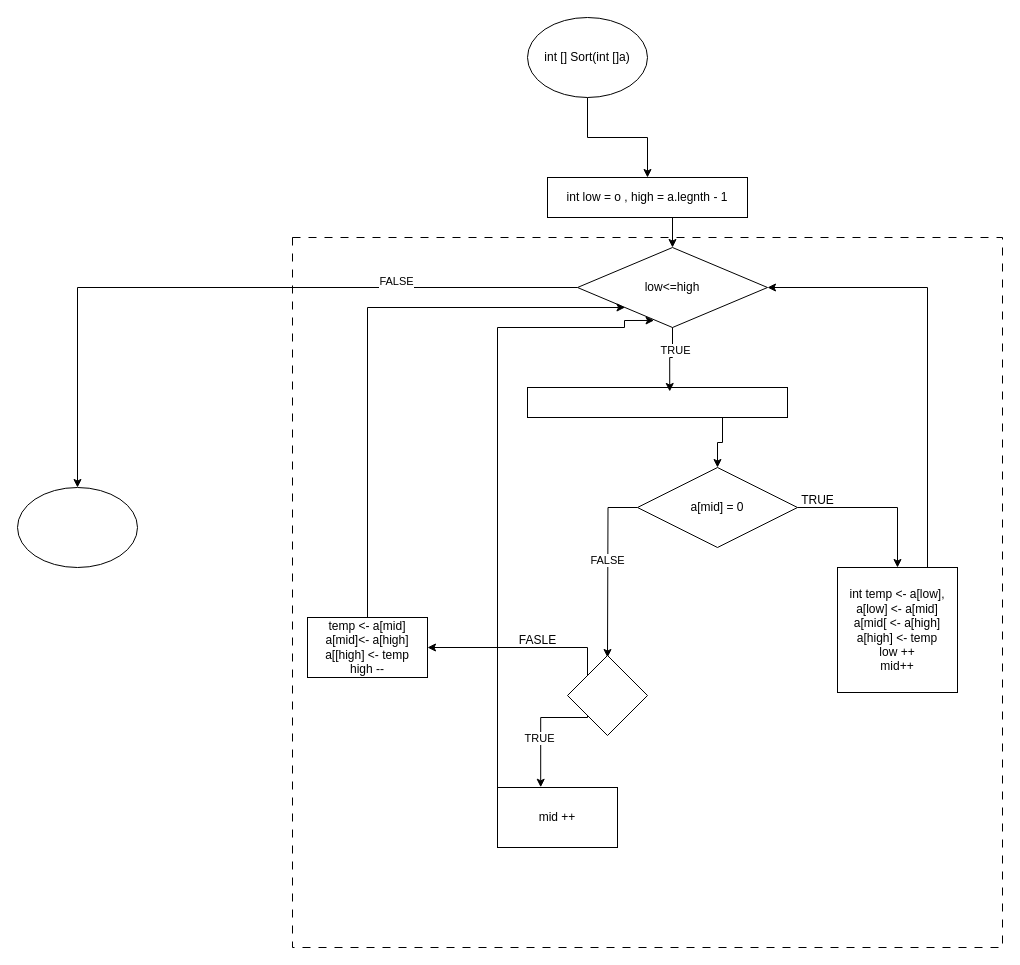
Some shapes in this 1020 by 965 pixel diagram are drawn without their labels. Each missing label, with the centre of its shape:
"a[mid] = 1" belongs at pixel 607 695.
"mid <- low + (high - low) / 2;" belongs at pixel 657 402.
"return a[]" belongs at pixel 77 527.
